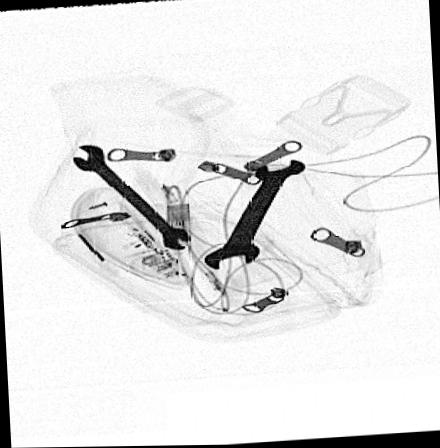Wrench: (73, 146, 191, 251), (202, 161, 309, 271)
